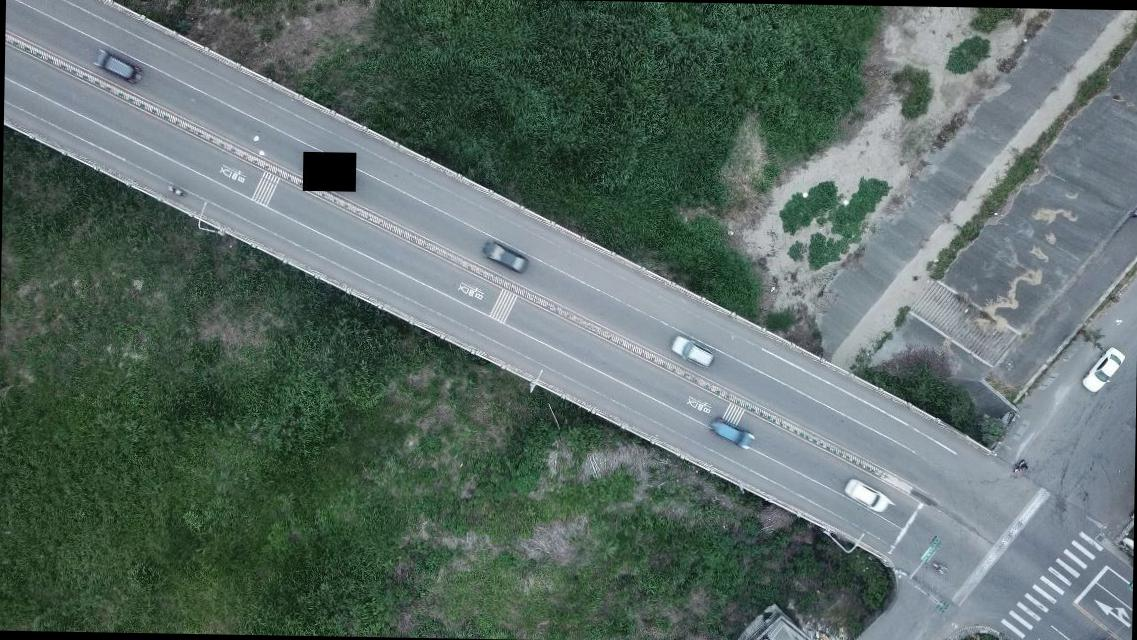vehicle: (1082, 346, 1124, 394), (92, 49, 142, 86), (480, 240, 530, 276), (842, 478, 890, 512), (670, 336, 716, 368), (710, 418, 756, 449)
